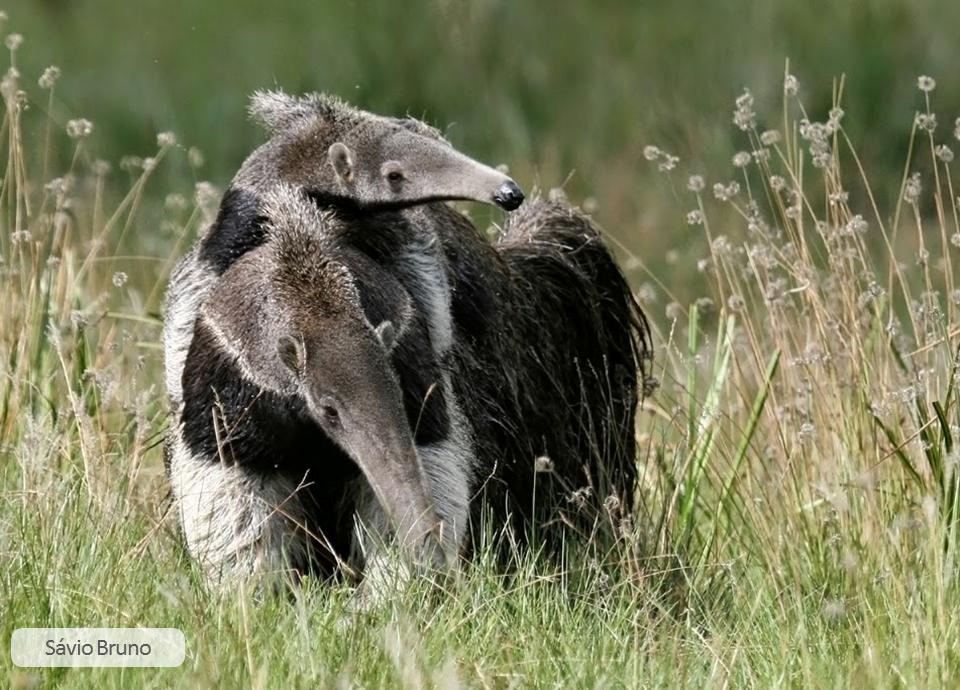TamanduaBandeira: (167, 222, 615, 583), (209, 88, 574, 266)
